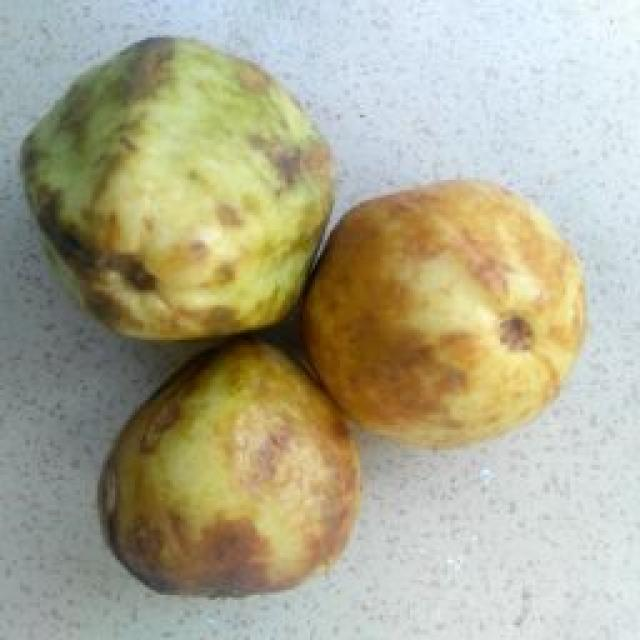Bad_Guava: (302, 181, 585, 446), (99, 339, 360, 594)
